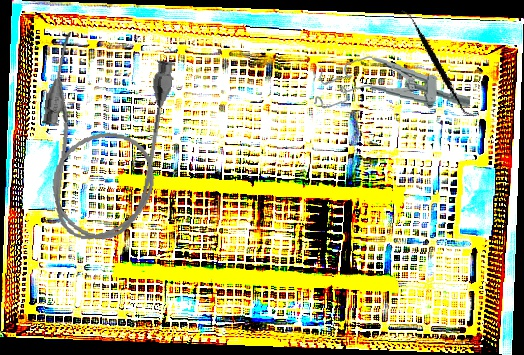Cannula: (26, 29, 178, 250)
Spatula Surgical: (373, 8, 503, 118)
Speculum: (313, 52, 473, 120)
